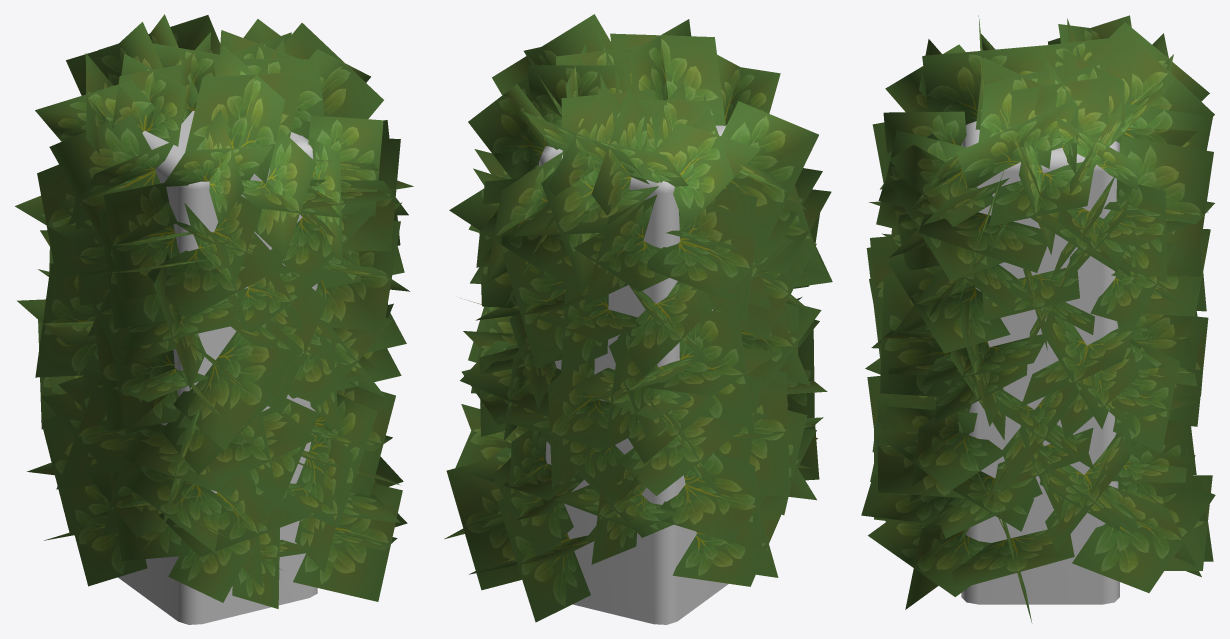
Rendered from Hedge3_LOD1.fbx.
3 views of the same model, side by side, from view 1: azimuth 30°, elevation 25°; view 2: azimuth 150°, elevation 25°; view 3: azimuth 270°, elevation 25° (orthographic).
Visible parts, largest first — view 1: polySurface19335; view 2: polySurface19335; view 3: polySurface19335.
Boxes of the visible parts, x1,y1,x2,y2 form: polySurface19335: [15, 14, 413, 624]; polySurface19335: [444, 14, 832, 624]; polySurface19335: [861, 15, 1215, 623].
Size of the model in its own units: 203 by 337 by 202.
